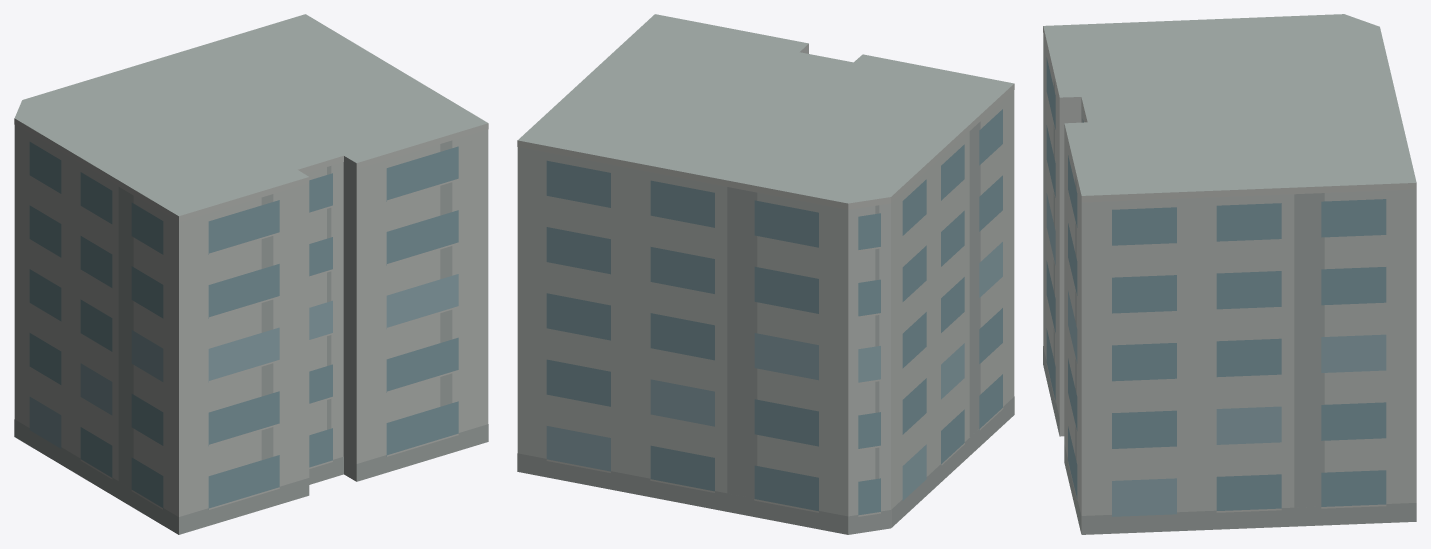
The model's file is survey-upis-32665708.glb.
3 views of the same model, side by side, from view 1: azimuth 30°, elevation 25°; view 2: azimuth 150°, elevation 25°; view 3: azimuth 270°, elevation 25° (orthographic). The views are drawn at different scales.
Parts seen in each view (by area): view 1: survey-upis-32665708.tmp; view 2: survey-upis-32665708.tmp; view 3: survey-upis-32665708.tmp.
Part boxes in pixels (box(x1,y1,x2,y2)): survey-upis-32665708.tmp: box(14, 14, 488, 534); survey-upis-32665708.tmp: box(517, 14, 1014, 534); survey-upis-32665708.tmp: box(1043, 14, 1416, 534).
Bounding box in the file's own units: 14.34 × 12.45 × 12.44.
